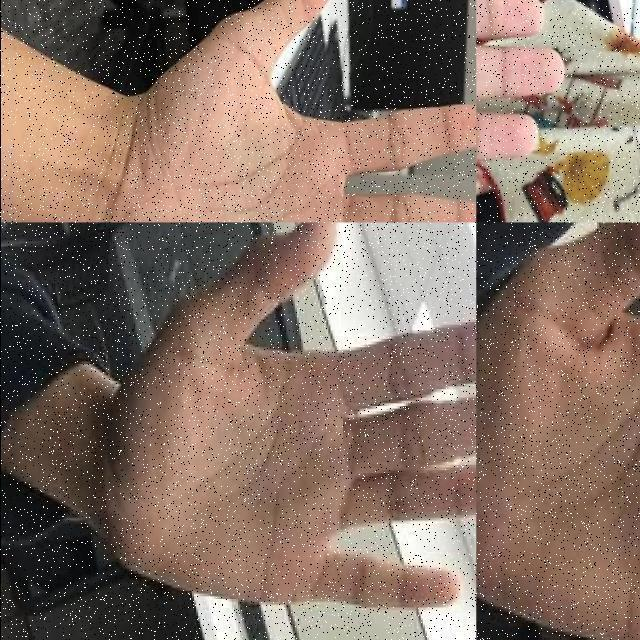hand: (103, 222, 475, 618), (83, 0, 476, 222), (476, 222, 640, 640), (476, 0, 568, 222)
